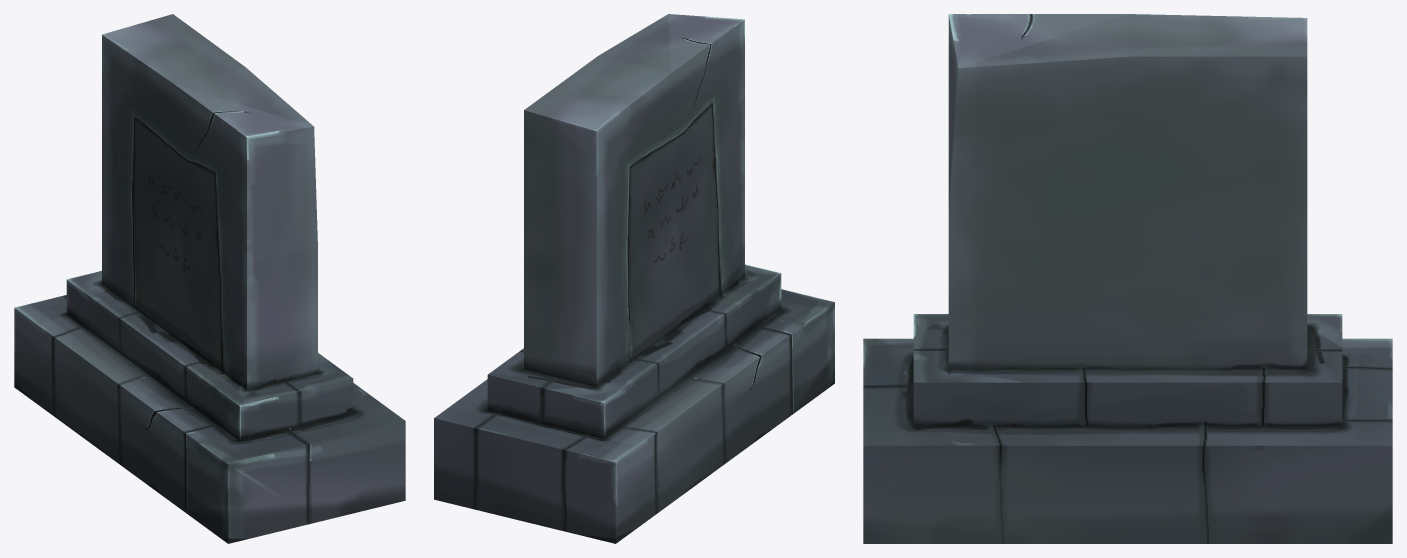
Rendered from grave_spirit.glb.
3 views of the same model, side by side, from view 1: azimuth 30°, elevation 25°; view 2: azimuth 150°, elevation 25°; view 3: azimuth 270°, elevation 25° (orthographic). The views are drawn at different scales.
Parts seen in each view (by area): view 1: Cube; view 2: Cube; view 3: Cube.
Part boxes in pixels (<box>): Cube: <box>14,14,405,543</box>; Cube: <box>434,14,834,543</box>; Cube: <box>863,14,1392,543</box>.
Size of the model in its own units: 0.6254 by 1.24 by 1.31.
Materials: 1 (1 with a texture image).
